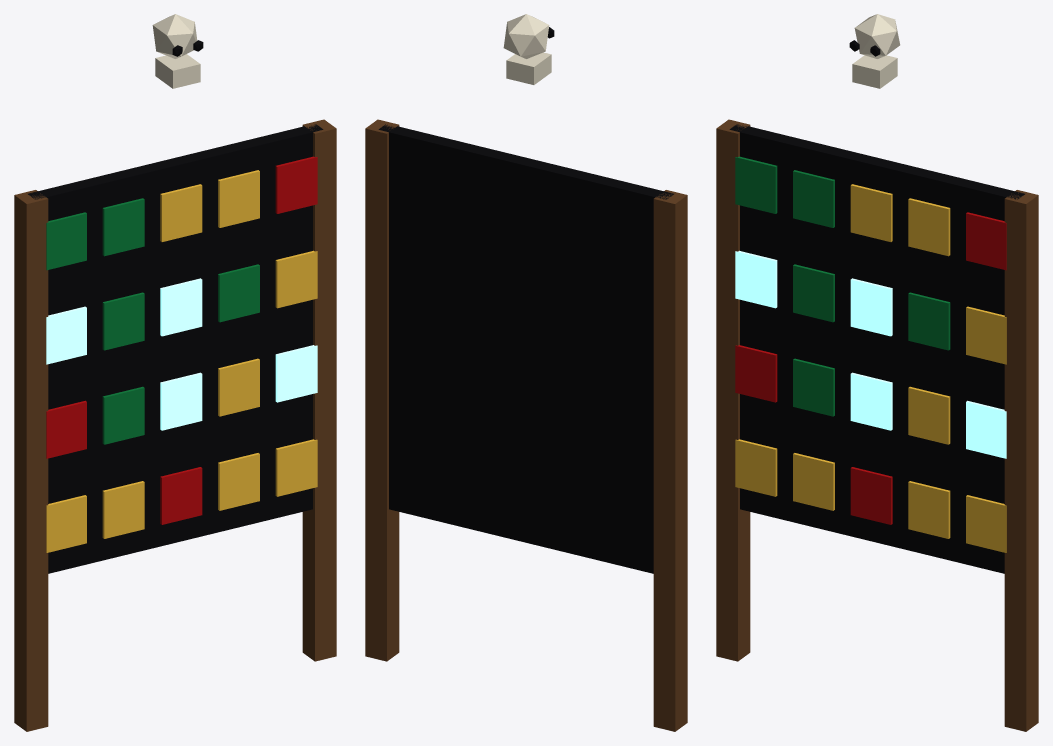
Rendered from Prop_OR_OddsBoard_20.glb.
The picture shows the model from 3 angles, left to right: view 1: azimuth 30°, elevation 25°; view 2: azimuth 150°, elevation 25°; view 3: azimuth 330°, elevation 25°; orthographic projection.
Parts seen in each view (by area): view 1: Prop_OR_OddsBoard_20; view 2: Prop_OR_OddsBoard_20; view 3: Prop_OR_OddsBoard_20.
Boxes of the visible parts, x1,y1,x2,y2 form: Prop_OR_OddsBoard_20: (14,14,336,731); Prop_OR_OddsBoard_20: (365,14,687,731); Prop_OR_OddsBoard_20: (716,14,1038,731).
Size of the model in its own units: 2.15 by 4.48 by 0.3057.
